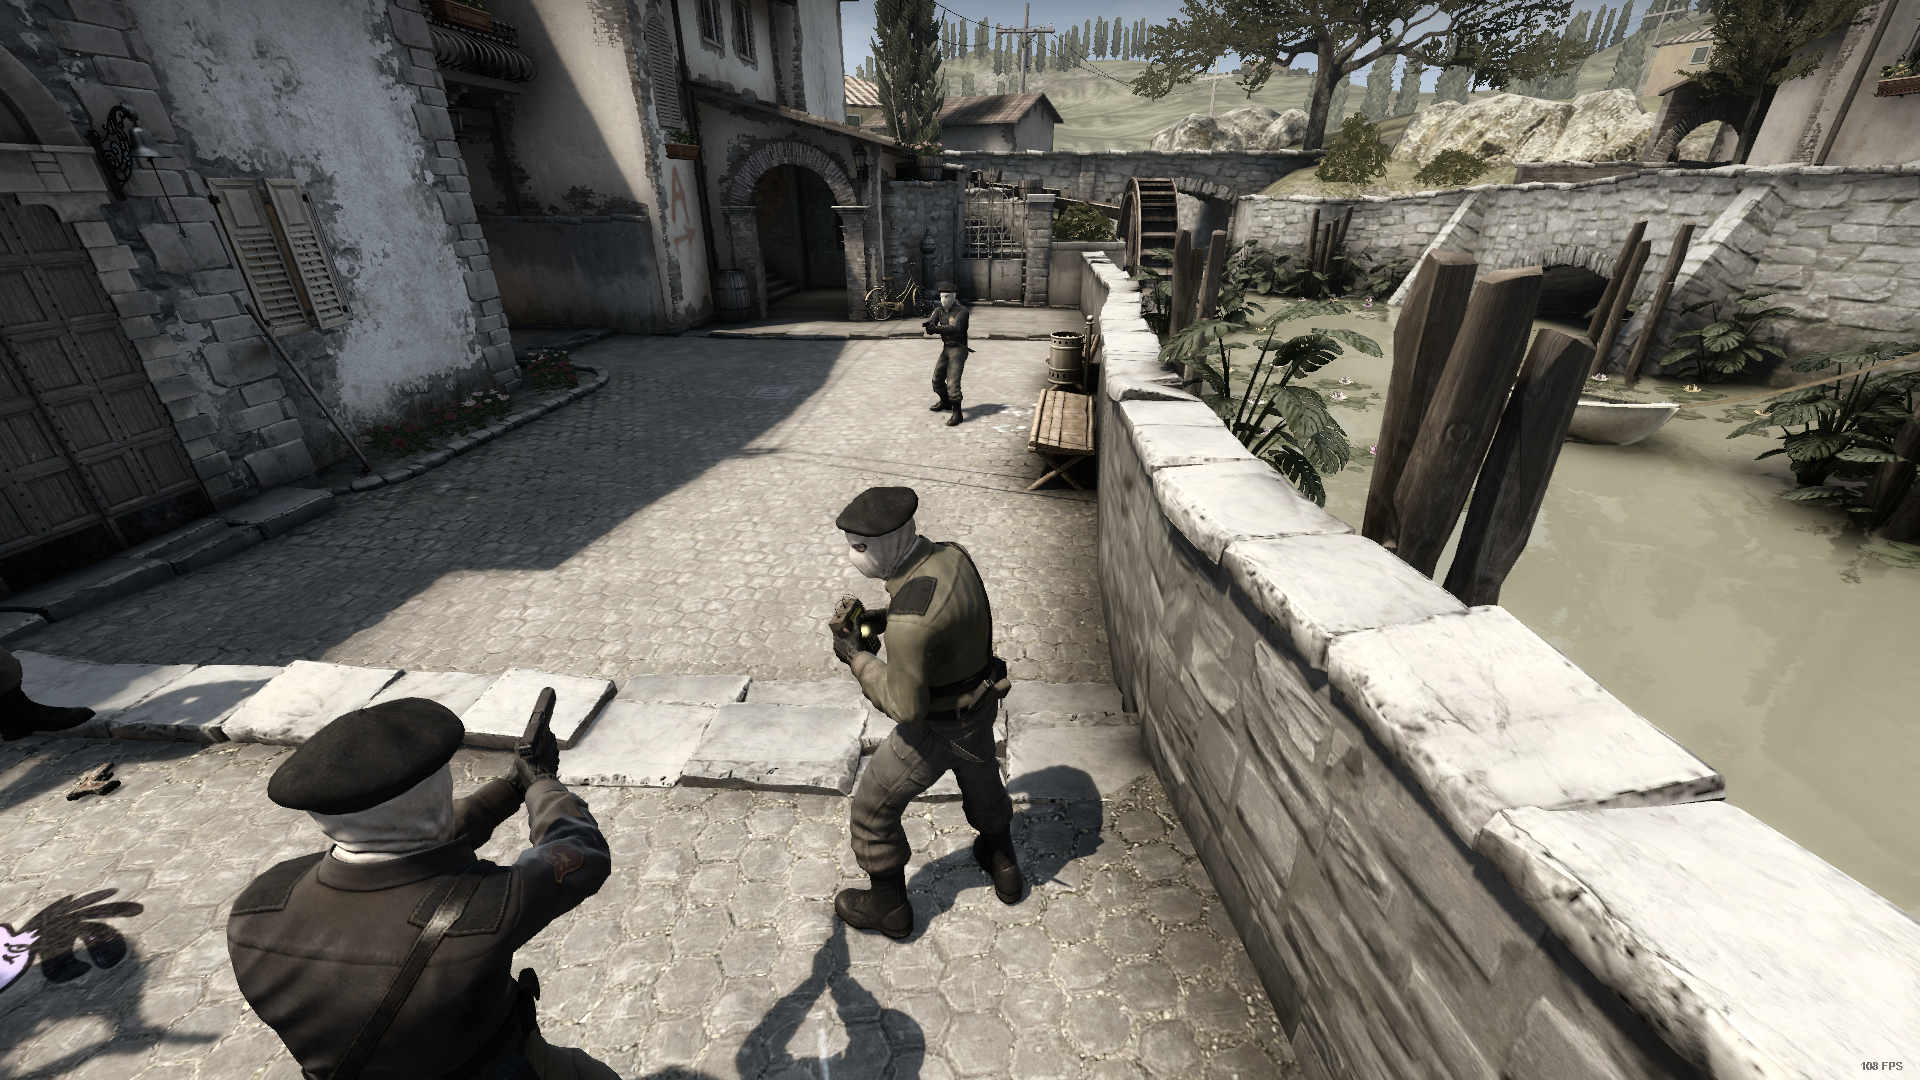t: (232, 698, 613, 1080), (825, 487, 1025, 938), (926, 284, 969, 427)
